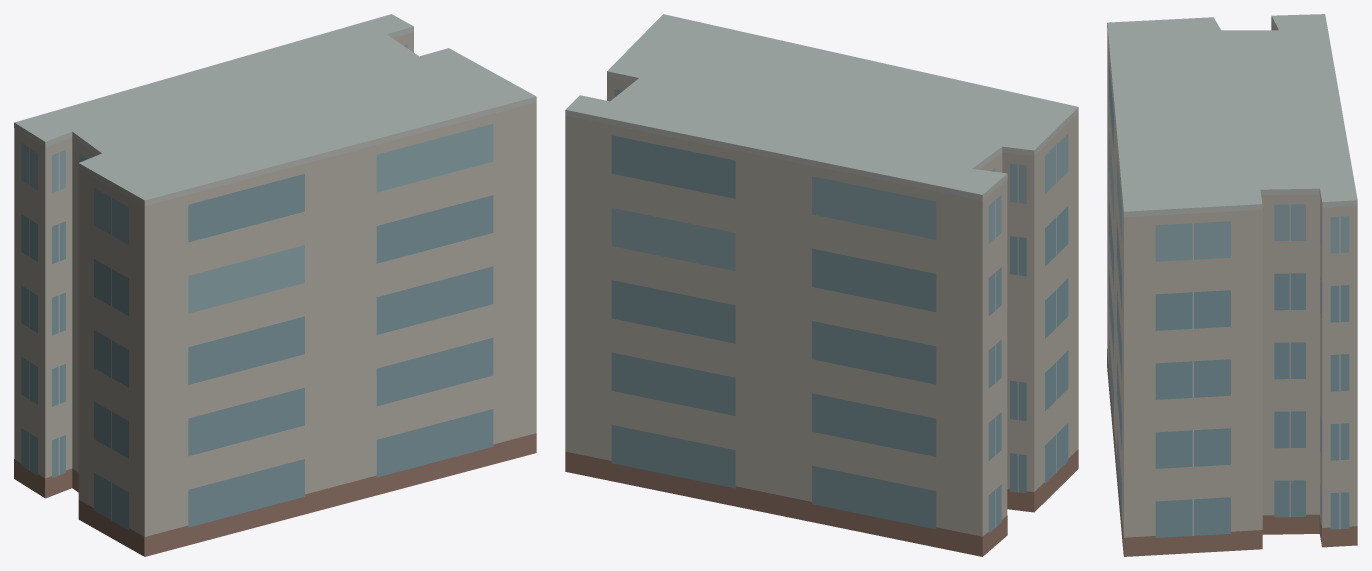
The model's file is survey-upis-32578671.glb.
3 renders of one model, left to right at view 1: azimuth 30°, elevation 25°; view 2: azimuth 150°, elevation 25°; view 3: azimuth 270°, elevation 25°, orthographic. The views are drawn at different scales.
Parts seen in each view (by area): view 1: survey-upis-32578671.tmp; view 2: survey-upis-32578671.tmp; view 3: survey-upis-32578671.tmp.
Boxes of the visible parts, x1,y1,x2,y2 form: survey-upis-32578671.tmp: [14, 14, 536, 556]; survey-upis-32578671.tmp: [565, 14, 1078, 556]; survey-upis-32578671.tmp: [1107, 14, 1357, 556].
Bounding box in the file's own units: 18.75 × 15.25 × 10.04.
